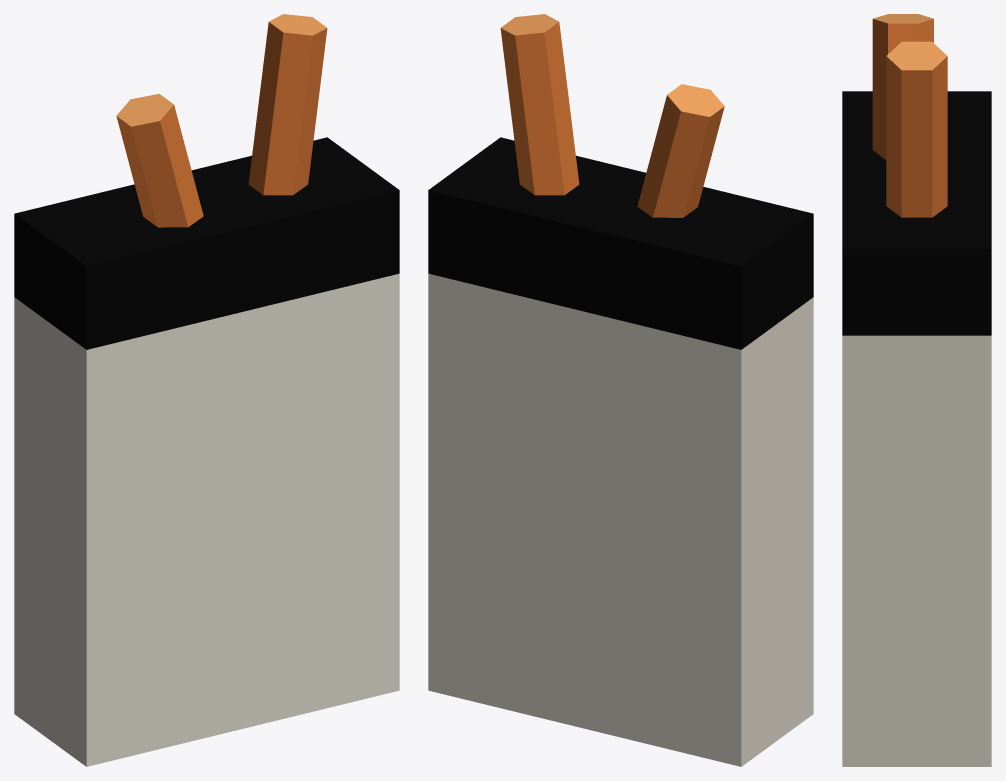
Rendered from Item_cigarette.fbx.
3 renders of one model, left to right at view 1: azimuth 30°, elevation 25°; view 2: azimuth 150°, elevation 25°; view 3: azimuth 270°, elevation 25°, orthographic. The views are drawn at different scales.
Visible parts, largest first — view 1: Pack, Band.001, Sticks; view 2: Pack, Band.001, Sticks; view 3: Pack, Band.001, Sticks.
Boxes of the visible parts, bbox=[...] form: Pack: bbox=[14, 273, 399, 766]; Band.001: bbox=[14, 137, 399, 349]; Sticks: bbox=[116, 14, 327, 227]; Pack: bbox=[428, 273, 813, 766]; Band.001: bbox=[428, 137, 813, 349]; Sticks: bbox=[500, 14, 724, 217]; Pack: bbox=[842, 335, 991, 766]; Band.001: bbox=[842, 91, 991, 335]; Sticks: bbox=[872, 14, 947, 217].
Size of the model in its own units: 0.0743 by 0.1492 by 0.0297.
